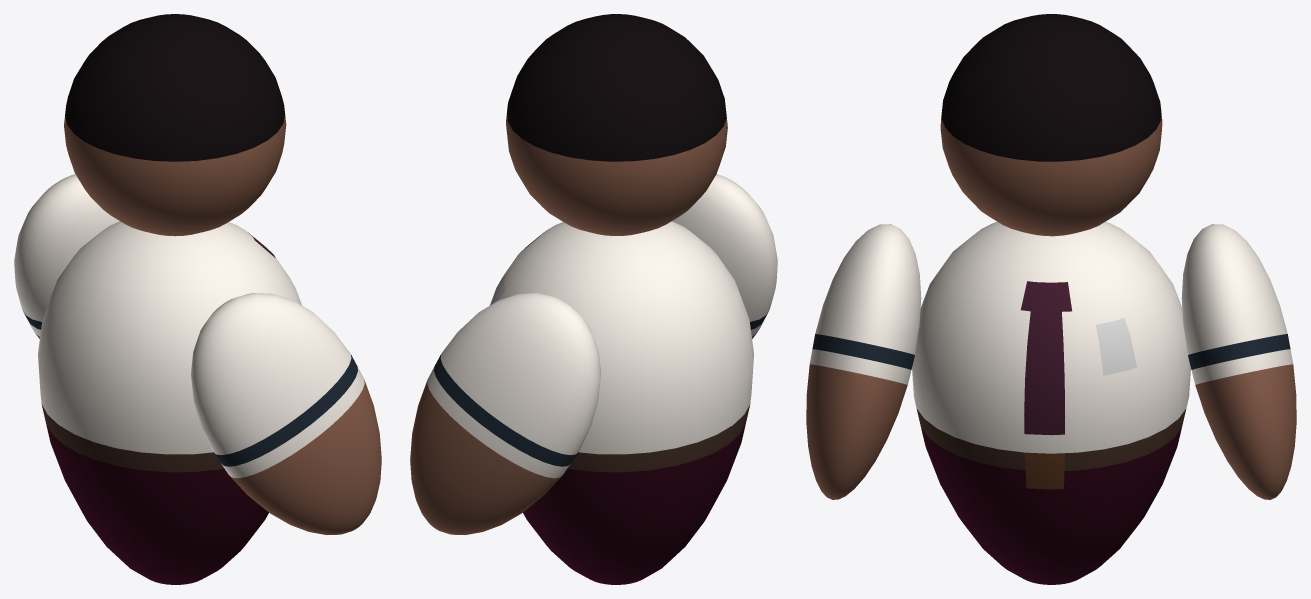
File: student 2.fbx
3 views of the same model, side by side, from view 1: azimuth 30°, elevation 25°; view 2: azimuth 150°, elevation 25°; view 3: azimuth 270°, elevation 25° (orthographic).
Visible parts, largest first — view 1: Sphere.001, Sphere, Sphere.002, Sphere.003; view 2: Sphere.001, Sphere, Sphere.003, Sphere.002; view 3: Sphere.001, Sphere, Sphere.002, Sphere.003.
Boxes of the visible parts, x1,y1,x2,y2 form: Sphere.001: (38,221,301,584); Sphere: (64,14,286,236); Sphere.002: (191,293,381,534); Sphere.003: (14,174,119,338); Sphere.001: (490,221,753,584); Sphere: (506,14,727,235); Sphere.003: (410,293,600,534); Sphere.002: (672,174,777,338); Sphere.001: (912,221,1190,584); Sphere: (940,14,1162,236); Sphere.002: (806,224,921,499); Sphere.003: (1181,224,1296,499).
Bounding box in the file's own units: 92.54 × 208 × 166.
